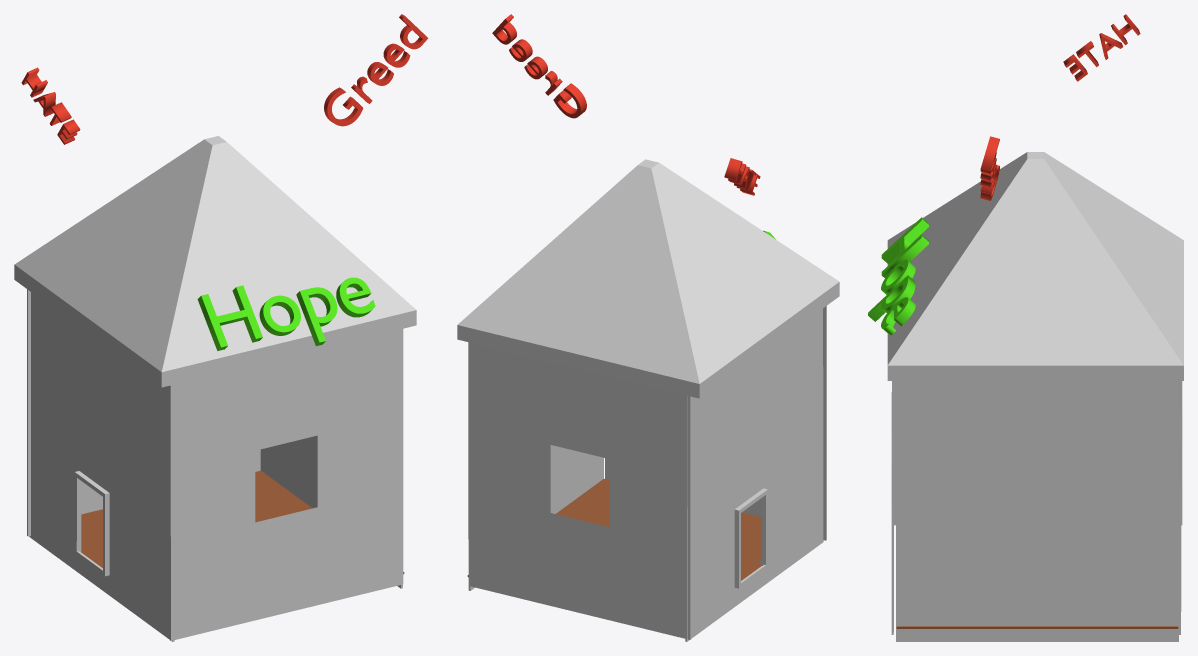
File: housewip2.glb
3 views of the same model, side by side, from view 1: azimuth 30°, elevation 25°; view 2: azimuth 150°, elevation 25°; view 3: azimuth 270°, elevation 25° (orthographic). The views are drawn at different scales.
Visible parts, largest first — view 1: wall 1.001, Plane, wall 4, Text.002, wall 3, floor, Text, wall 1, Text.001; view 2: Plane, wall 1, wall 4, wall 3, floor, Text, wall 1.001, Text.001; view 3: wall 3, Plane, Text.002, Text.001, Text, floor, wall 1.001, wall 1, wall 4.
Part boxes in pixels (bbox=[...]): wall 1.001: bbox=[169, 329, 403, 640]; Plane: bbox=[14, 136, 416, 387]; wall 4: bbox=[29, 292, 174, 641]; Text.002: bbox=[197, 277, 375, 350]; wall 3: bbox=[260, 435, 402, 588]; floor: bbox=[81, 470, 404, 574]; Text: bbox=[324, 14, 428, 126]; wall 1: bbox=[27, 289, 260, 536]; Text.001: bbox=[21, 67, 80, 144]; Plane: bbox=[457, 159, 839, 398]; wall 1: bbox=[469, 342, 691, 639]; wall 4: bbox=[685, 309, 823, 641]; wall 3: bbox=[468, 342, 603, 590]; floor: bbox=[467, 479, 761, 580]; Text: bbox=[492, 14, 586, 118]; wall 1.001: bbox=[605, 306, 826, 540]; Text.001: bbox=[724, 158, 760, 195]; wall 3: bbox=[896, 381, 1178, 641]; Plane: bbox=[887, 152, 1183, 380]; Text.002: bbox=[868, 217, 928, 335]; Text.001: bbox=[1063, 14, 1140, 81]; Text: bbox=[980, 136, 999, 200]; floor: bbox=[896, 626, 1178, 628]; wall 1.001: bbox=[891, 381, 893, 634]; wall 1: bbox=[1179, 381, 1181, 634]; wall 4: bbox=[894, 381, 1182, 525].
Bounding box in the file's own units: 22.95 × 34.94 × 18.88.
